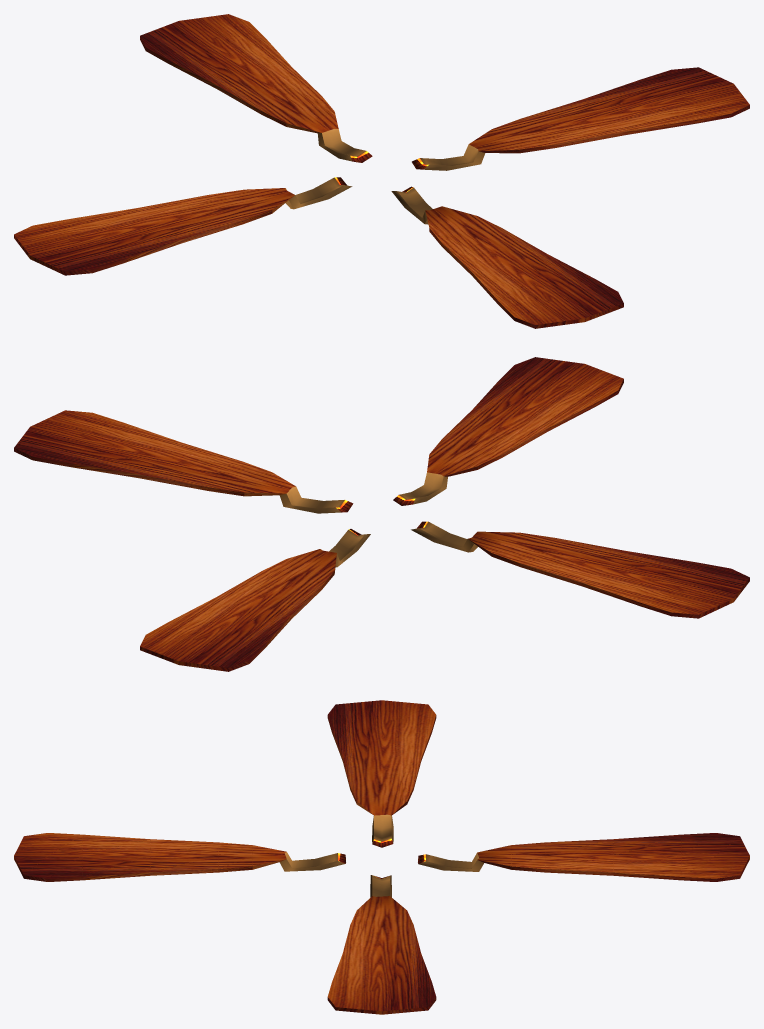
The model's file is ceiling_fan_blades.fbx.
3 views of the same model, one above another, from view 1: azimuth 30°, elevation 25°; view 2: azimuth 150°, elevation 25°; view 3: azimuth 270°, elevation 25° (orthographic). The views are drawn at different scales.
Parts seen in each view (by area): view 1: ceiling_fan_blades; view 2: ceiling_fan_blades; view 3: ceiling_fan_blades.
Boxes of the visible parts, bbox=[...] form: ceiling_fan_blades: bbox=[14, 14, 749, 328]; ceiling_fan_blades: bbox=[14, 357, 749, 671]; ceiling_fan_blades: bbox=[14, 700, 749, 1014].
Size of the model in its own units: 167 by 3.87 by 167.
1 material, 1 textured.
